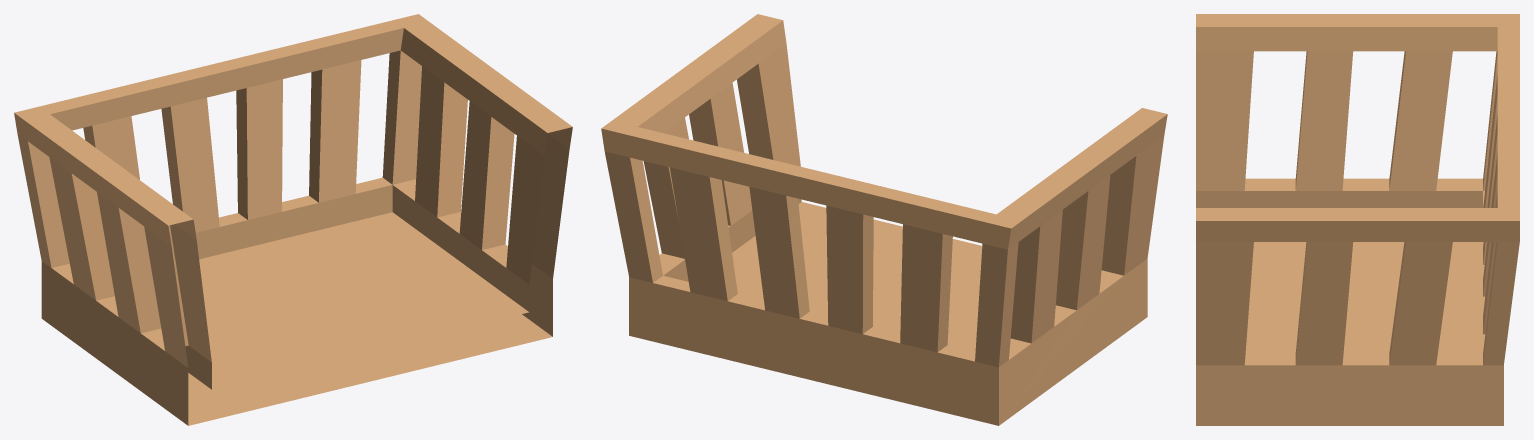
File: Balcony.fbx
3 views of the same model, side by side, from view 1: azimuth 30°, elevation 25°; view 2: azimuth 150°, elevation 25°; view 3: azimuth 270°, elevation 25° (orthographic). The views are drawn at different scales.
Parts seen in each view (by area): view 1: 002.Balcony; view 2: 002.Balcony; view 3: 002.Balcony.
Boxes of the visible parts, box(x1,y1,x2,y2) form: 002.Balcony: box(14, 14, 572, 425); 002.Balcony: box(601, 14, 1167, 425); 002.Balcony: box(1196, 14, 1519, 425).
Bounding box in the file's own units: 158 × 76.79 × 105.
